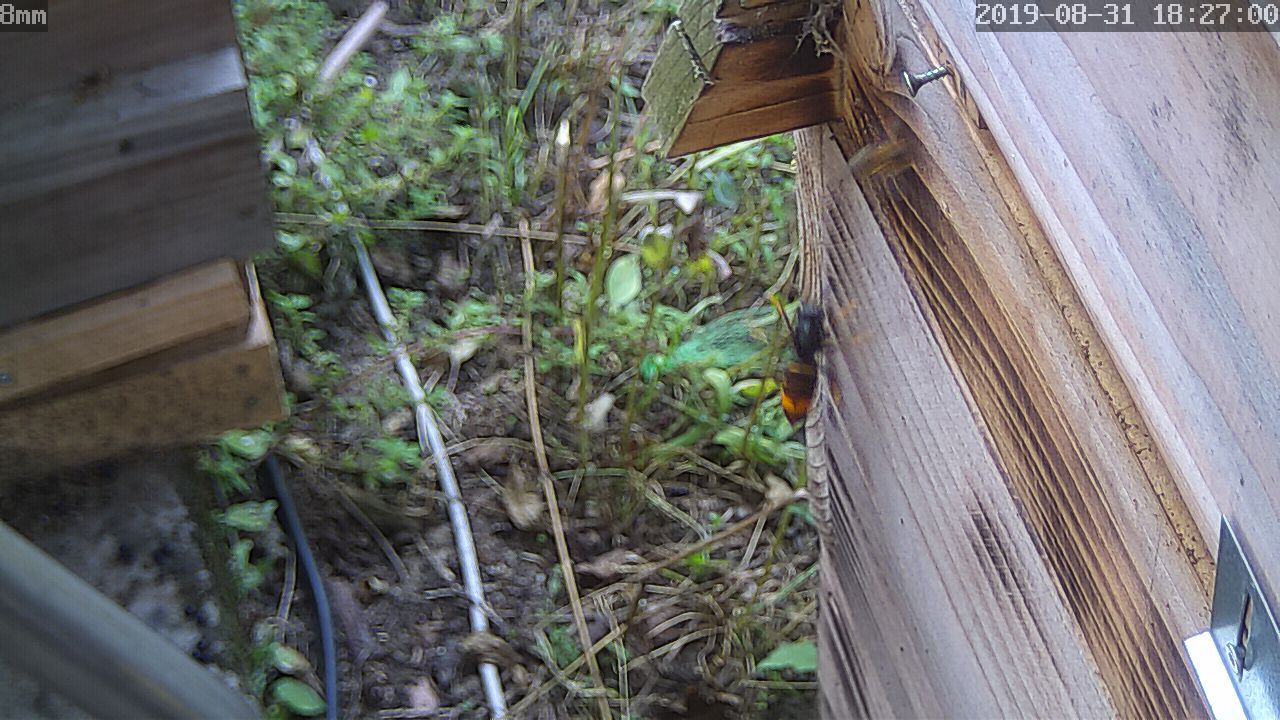hornet: (773, 291, 840, 426)
